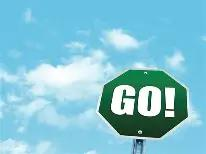Go: (100, 69, 188, 137)
